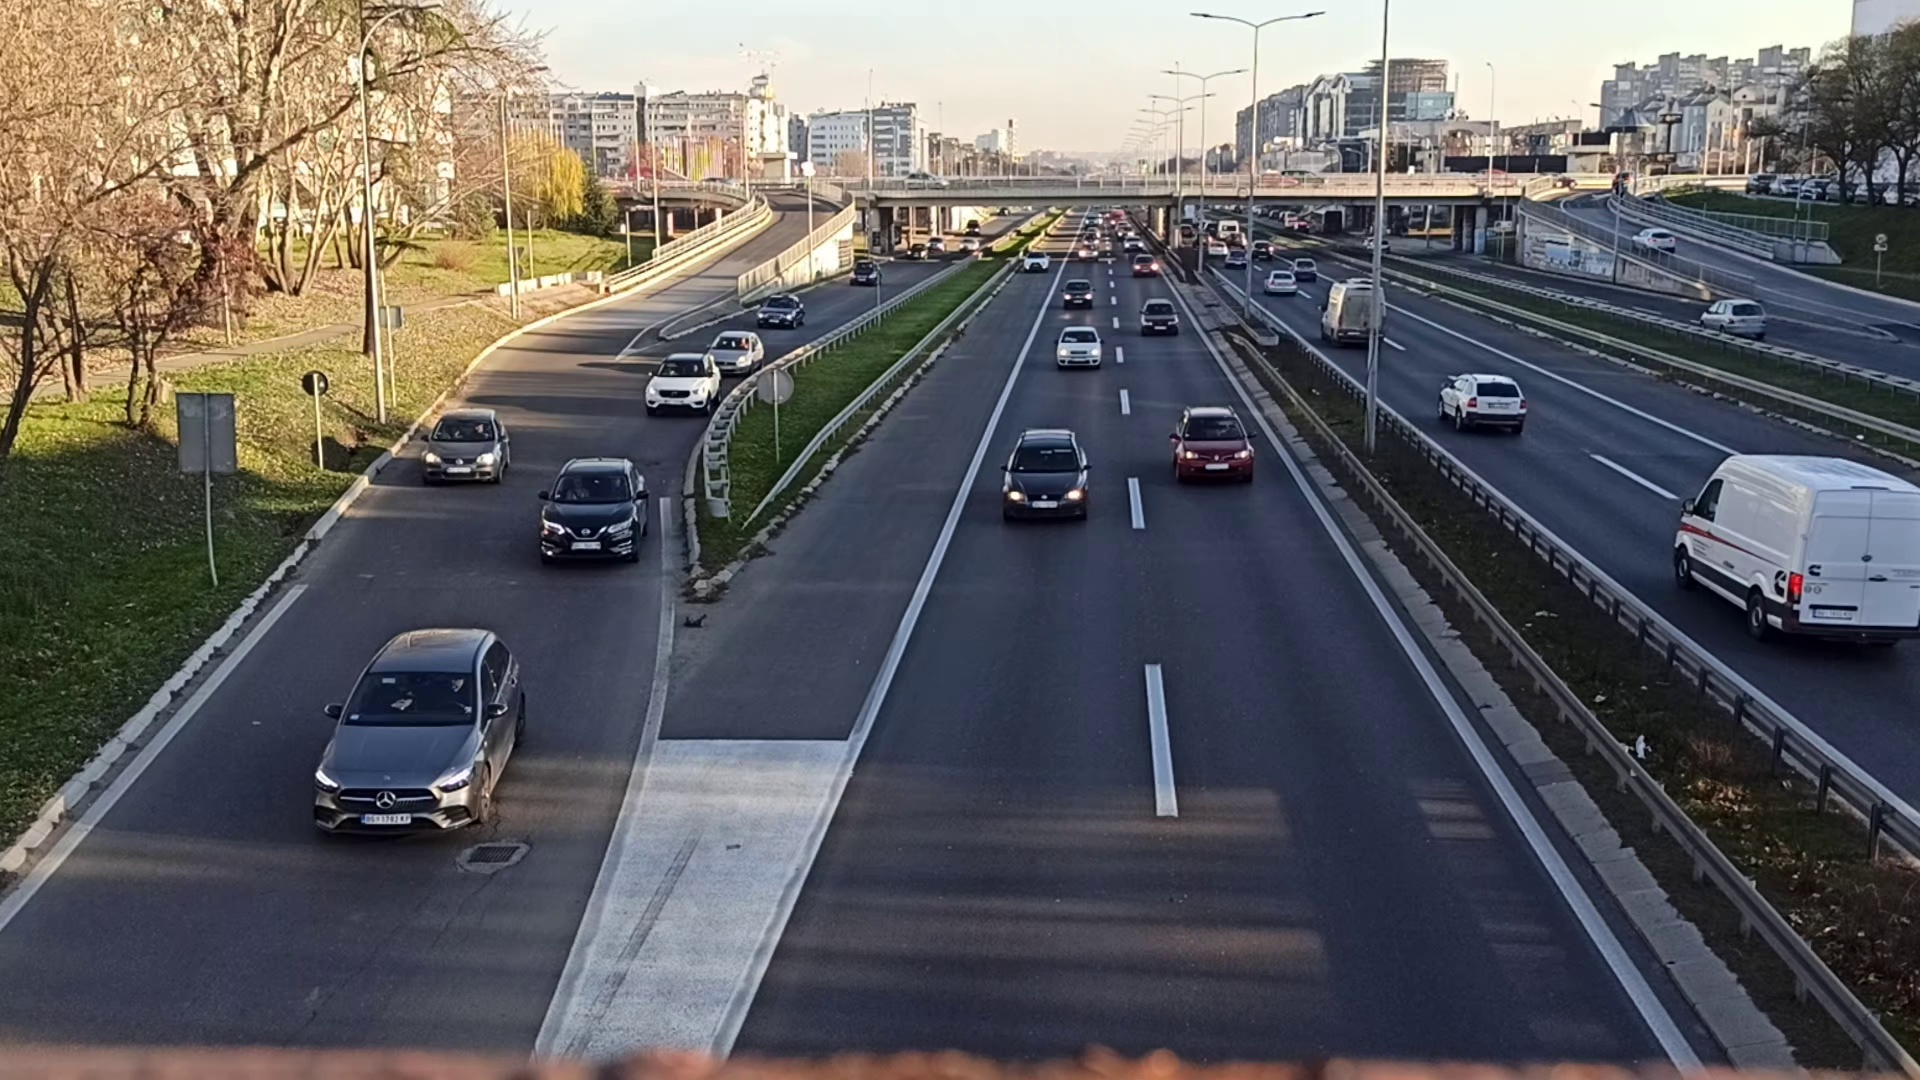car: (315, 622, 524, 836), (535, 446, 650, 582), (1000, 419, 1092, 524), (417, 404, 513, 498), (1172, 406, 1253, 487), (1440, 369, 1524, 430), (642, 352, 717, 414), (709, 330, 764, 372), (1054, 324, 1104, 369), (756, 294, 804, 330), (1139, 299, 1180, 338)
van: (1675, 447, 1920, 659), (1321, 280, 1382, 349)
